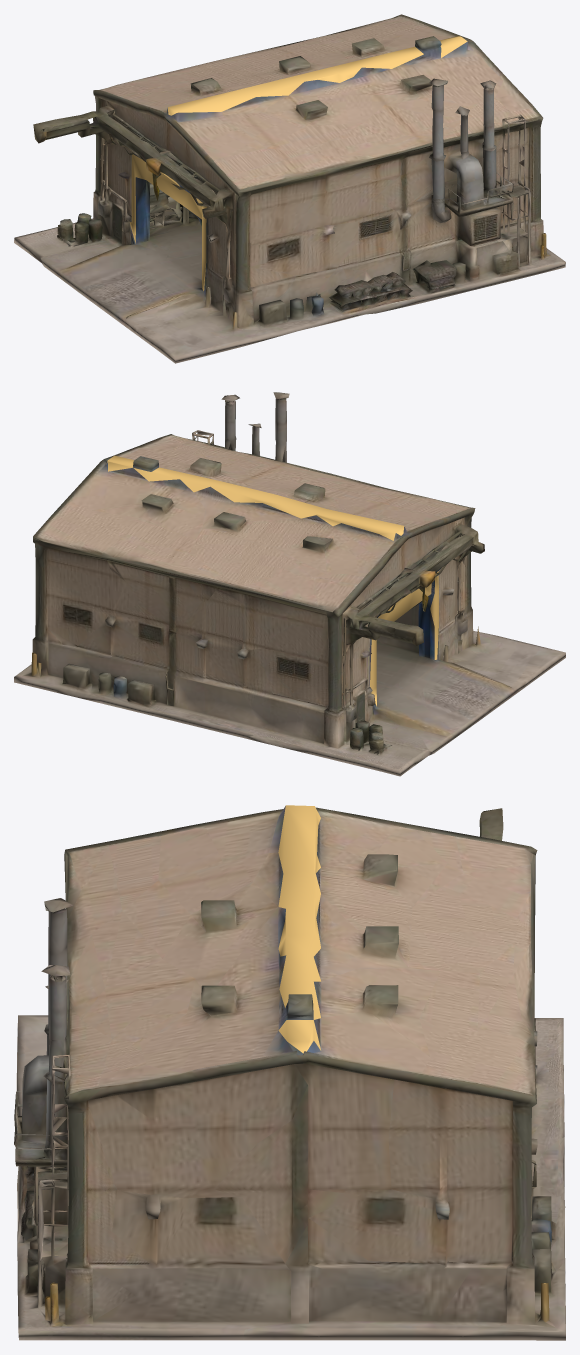
Rendered from vehicle_factory.glb.
The picture shows the model from 3 angles, top to bottom: view 1: azimuth 30°, elevation 25°; view 2: azimuth 150°, elevation 25°; view 3: azimuth 270°, elevation 25°; orthographic projection. The views are drawn at different scales.
Parts seen in each view (by area): view 1: Model; view 2: Model; view 3: Model.
Part boxes in pixels (x1=…): Model: x1=14, y1=14, x2=565, y2=363; Model: x1=14, y1=392, x2=565, y2=776; Model: x1=14, y1=805, x2=565, y2=1340.
Size of the model in its own units: 2 by 1.01 by 1.47.
Materials: 2 (1 with a texture image).
